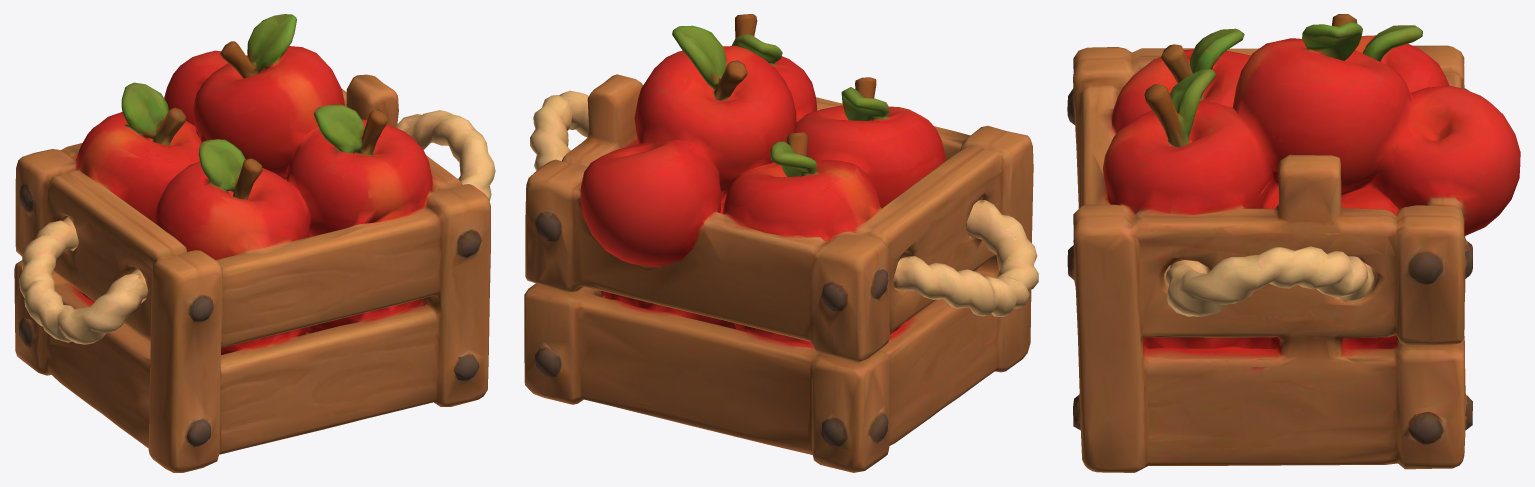
3 renders of one model, left to right at view 1: azimuth 30°, elevation 25°; view 2: azimuth 150°, elevation 25°; view 3: azimuth 270°, elevation 25°, orthographic. The views are drawn at different scales.
Visible parts, largest first — view 1: apple-crate; view 2: apple-crate; view 3: apple-crate.
Part boxes in pixels (box(x1,y1,x2,y2)): apple-crate: box(14, 14, 495, 472); apple-crate: box(524, 14, 1038, 472); apple-crate: box(1067, 14, 1520, 472).
Size of the model in its own units: 0.5995 by 0.4263 by 0.4425.
1 material, 1 textured.
